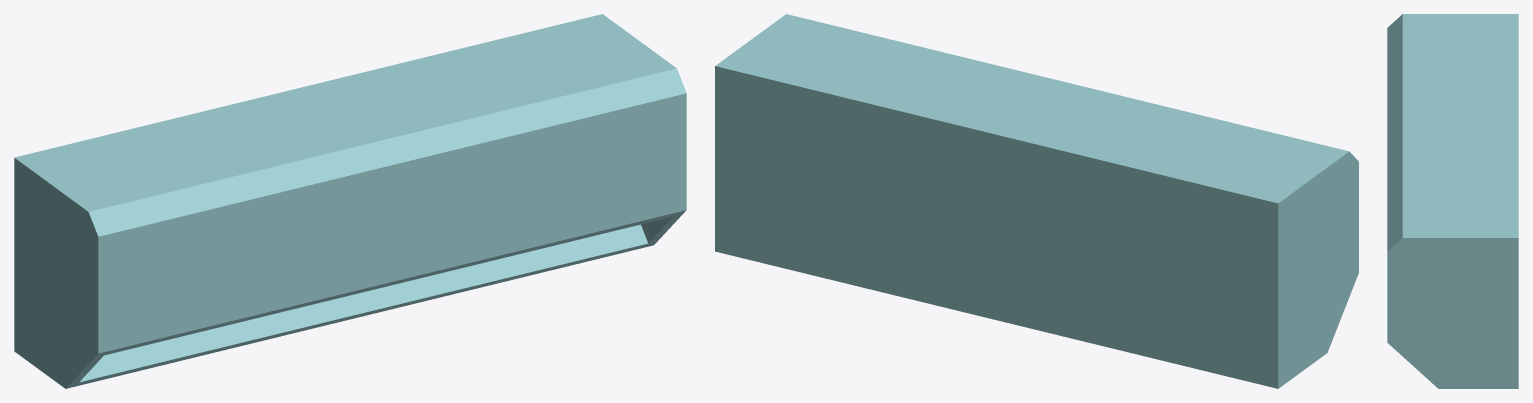
The model's file is Itr_Airconditioner3_Body_04.FBX.
3 views of the same model, side by side, from view 1: azimuth 30°, elevation 25°; view 2: azimuth 150°, elevation 25°; view 3: azimuth 270°, elevation 25° (orthographic). The views are drawn at different scales.
Visible parts, largest first — view 1: Itr_Airconditioner3_Body_04; view 2: Itr_Airconditioner3_Body_04; view 3: Itr_Airconditioner3_Body_04.
Boxes of the visible parts, x1,y1,x2,y2 form: Itr_Airconditioner3_Body_04: (14, 14, 686, 388); Itr_Airconditioner3_Body_04: (715, 14, 1358, 388); Itr_Airconditioner3_Body_04: (1387, 14, 1518, 388).
Size of the model in its own units: 53.24 by 16.76 by 13.19.
